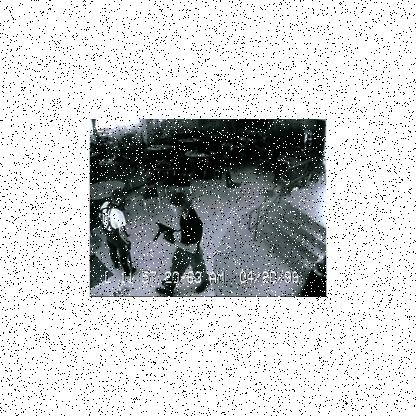gun: (150, 221, 176, 244)
